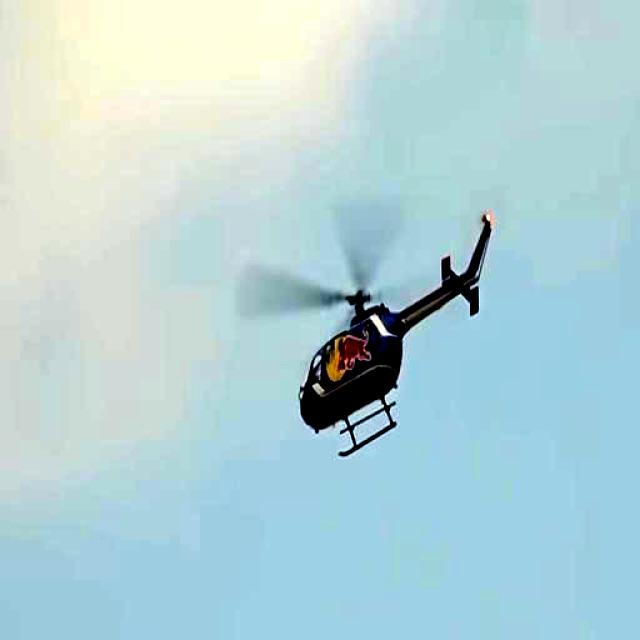drone: (282, 194, 504, 466)
